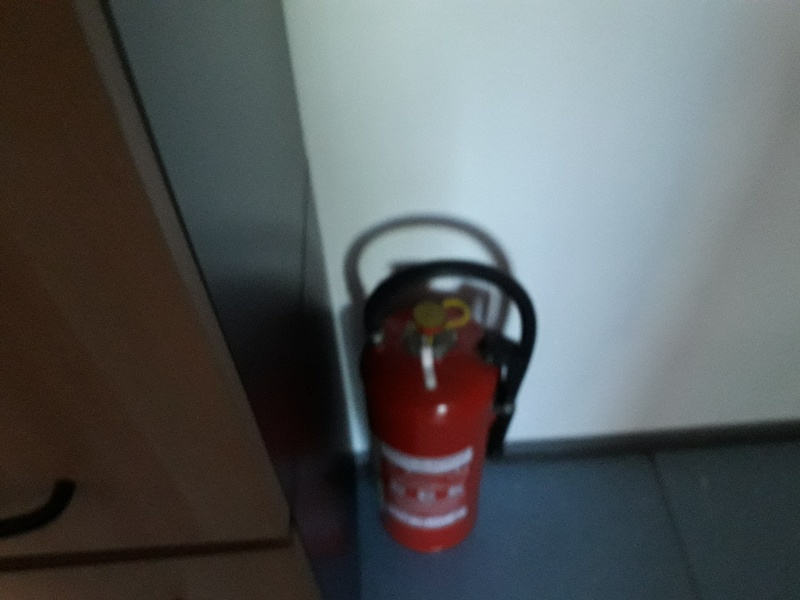vataparat: (363, 262, 534, 553)
